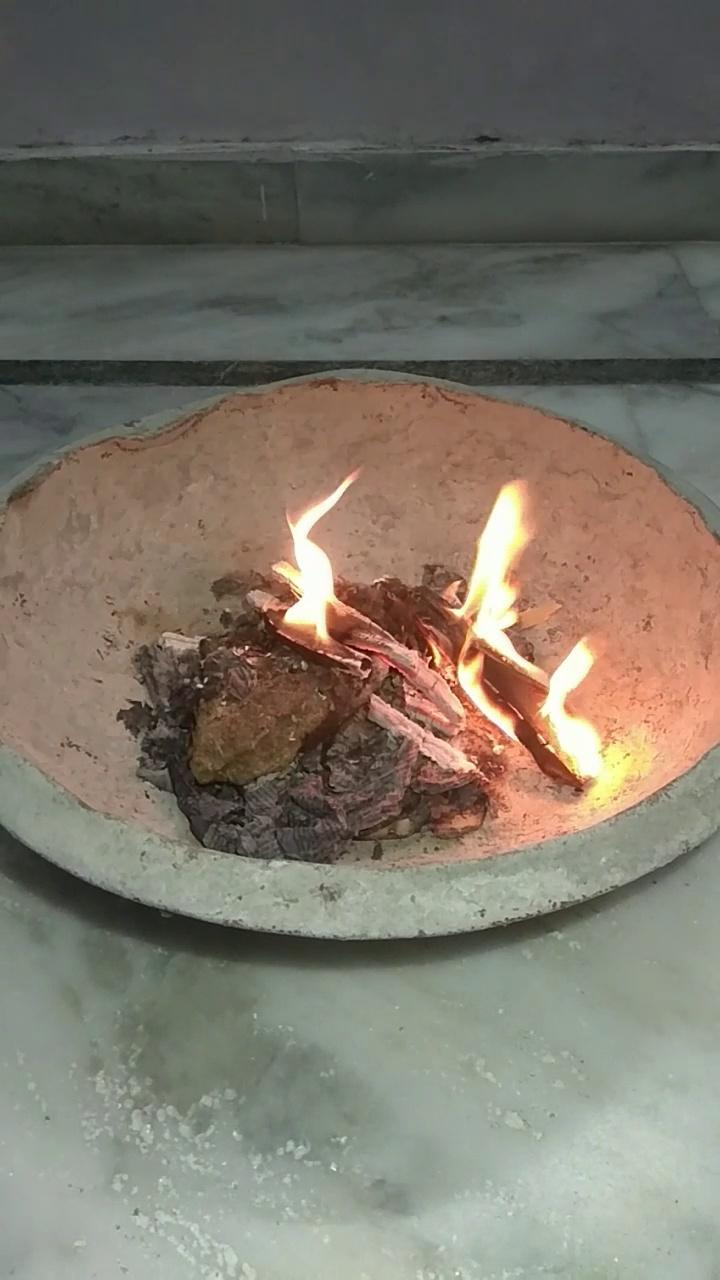fire: (258, 495, 607, 780)
